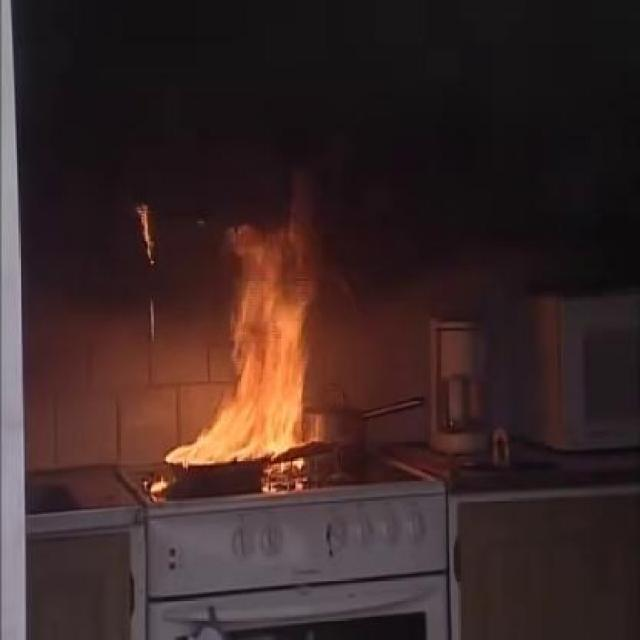fire: (166, 263, 331, 462)
smoke: (209, 147, 345, 246)
